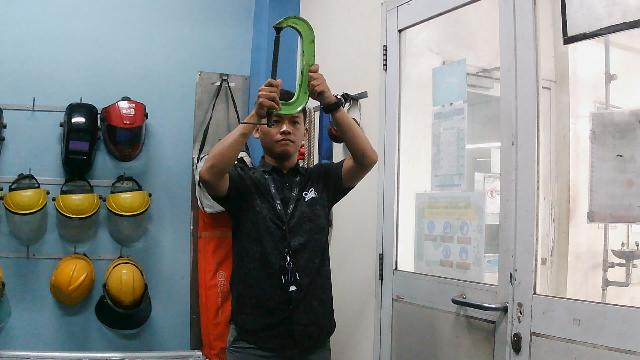tekiro_c_clamp: (263, 10, 317, 130)
